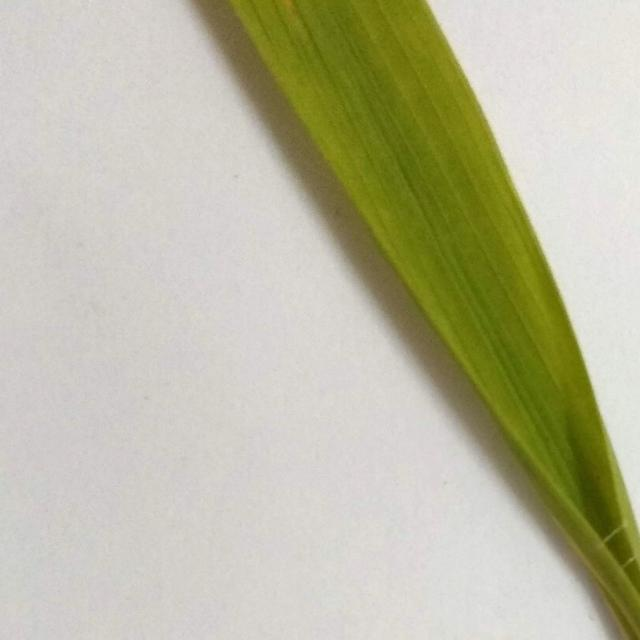Rice_Healthy: (229, 0, 640, 640)
